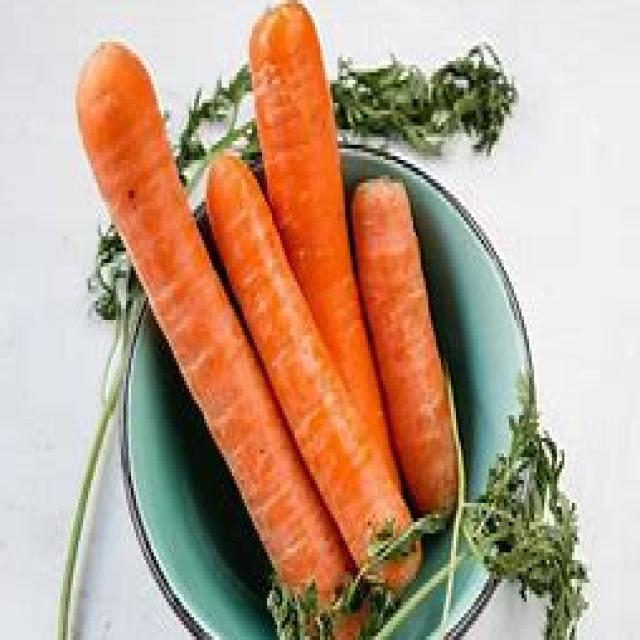carrot: (75, 45, 344, 633), (201, 151, 419, 593), (256, 5, 403, 477), (353, 181, 459, 524)
